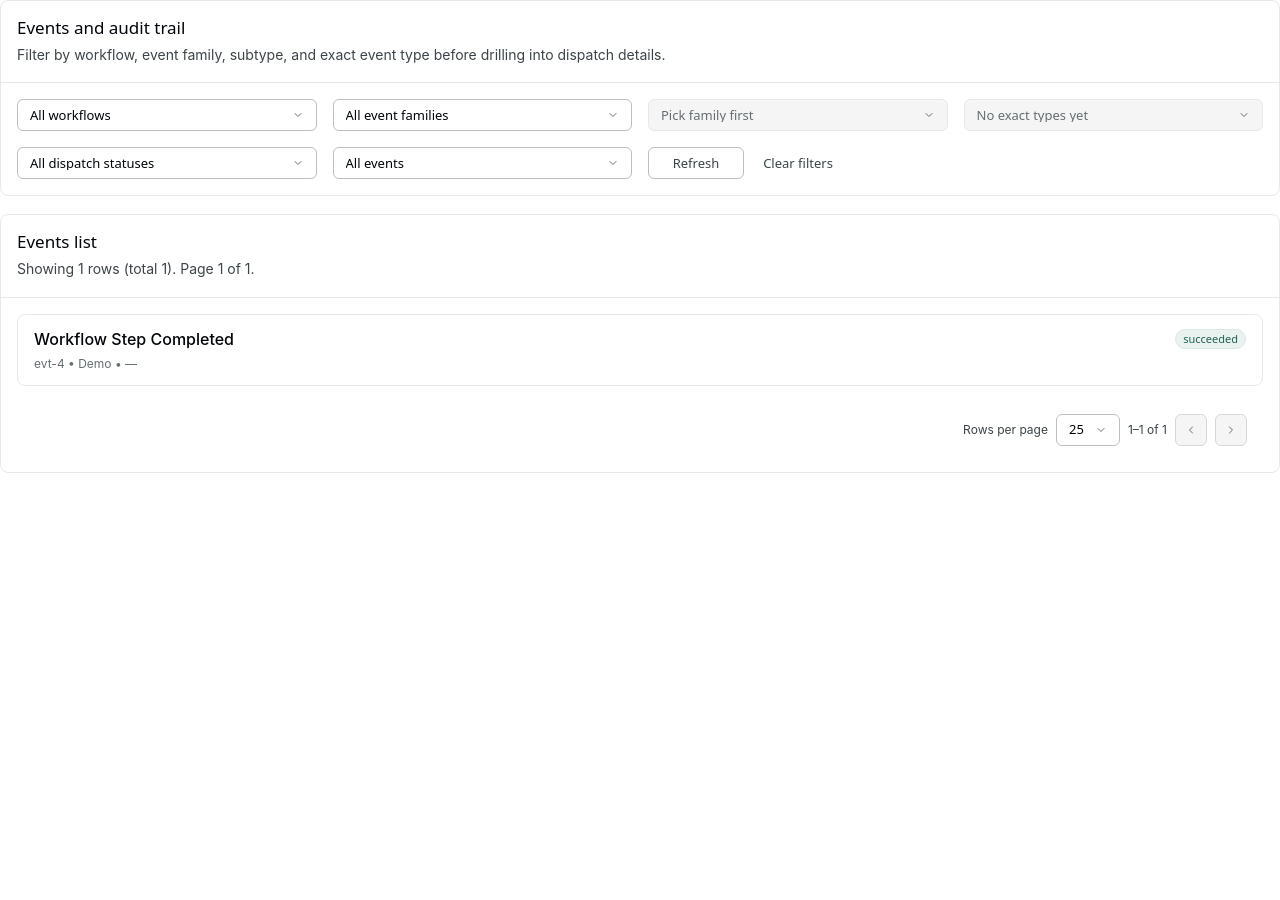
Test case: EventsAuditTrail › prefers canonical command type labels and otherwise shows raw command codes before retired labels
This screenshot has width=1280, height=900.
What coordinates should you click on to do the following:
click the button "Workflow Step Completed succeeded evt-4 • Demo • —"
I would click on:
 (134, 339)
Its box is [34,327,1246,373].
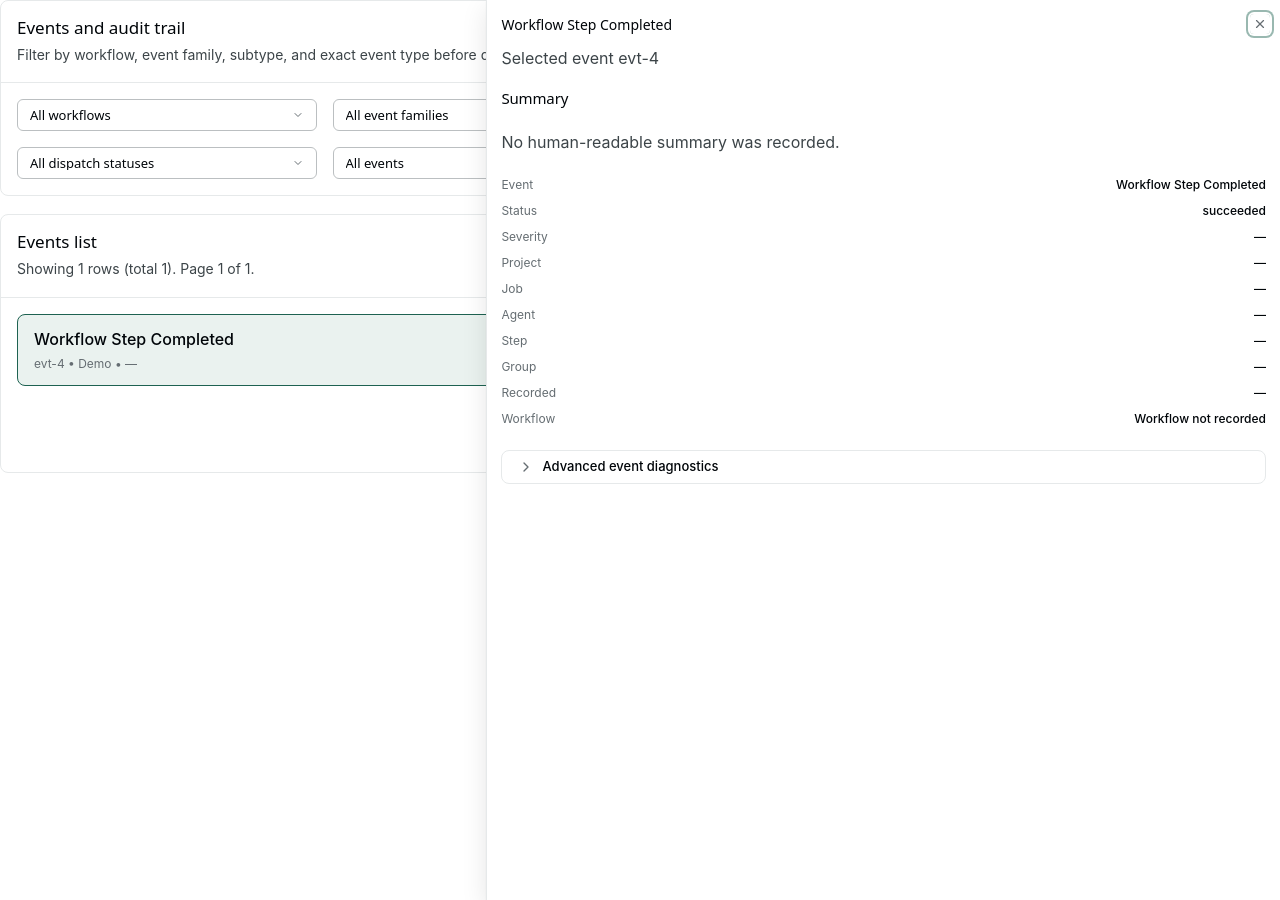
What coordinates should you click on to do the following:
click the heading "Advanced event diagnostics"
I would click on:
 (618, 467)
Its box is [518,458,718,475].
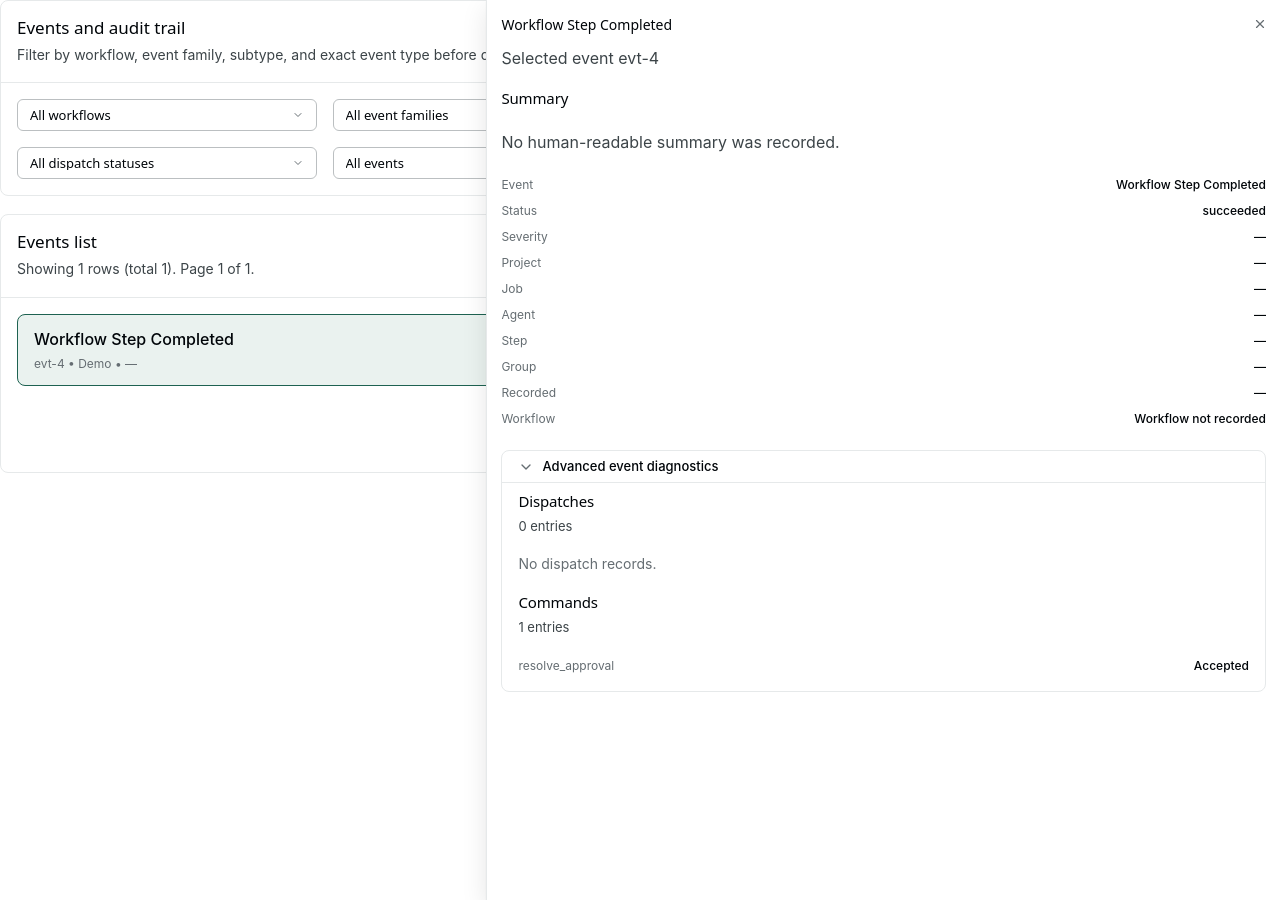
Check: the text "resolve_approval" is shown, box [518,657,614,675]
